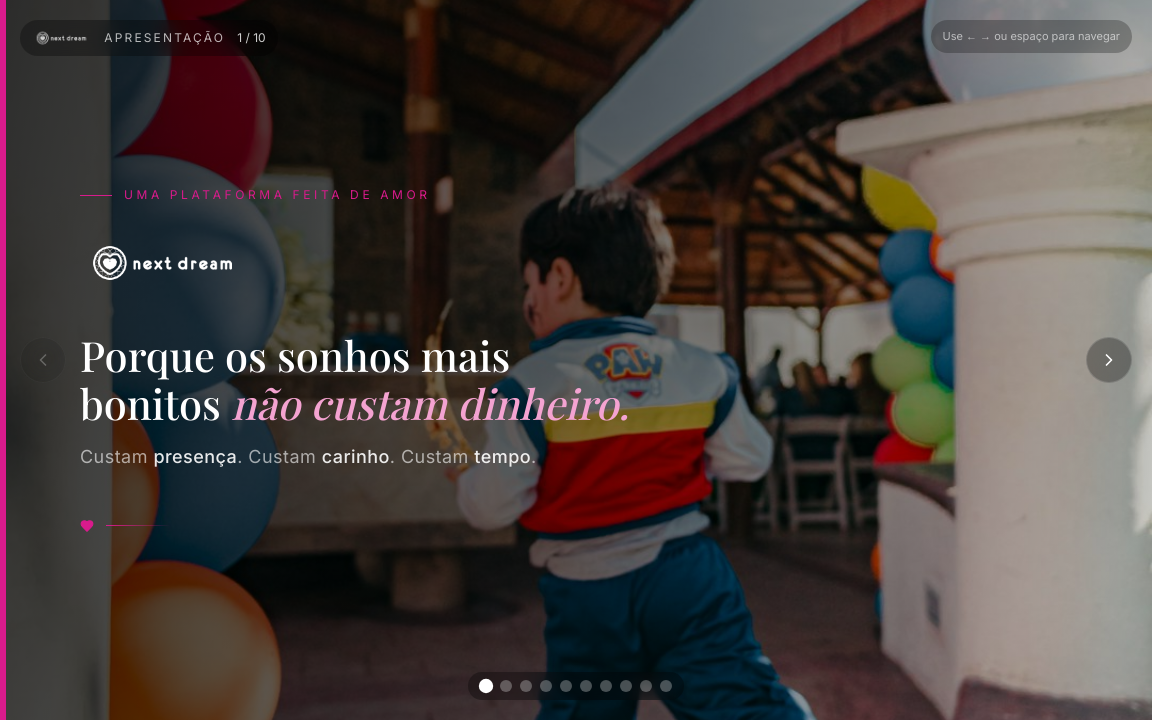
Test: Presentation immersive navigation › advances on horizontal swipe
The width and height of the screenshot is (1152, 720).
Press the mouse on the element with test id "presentation-stage" at point(576, 360), box [0, 0, 1151, 719]
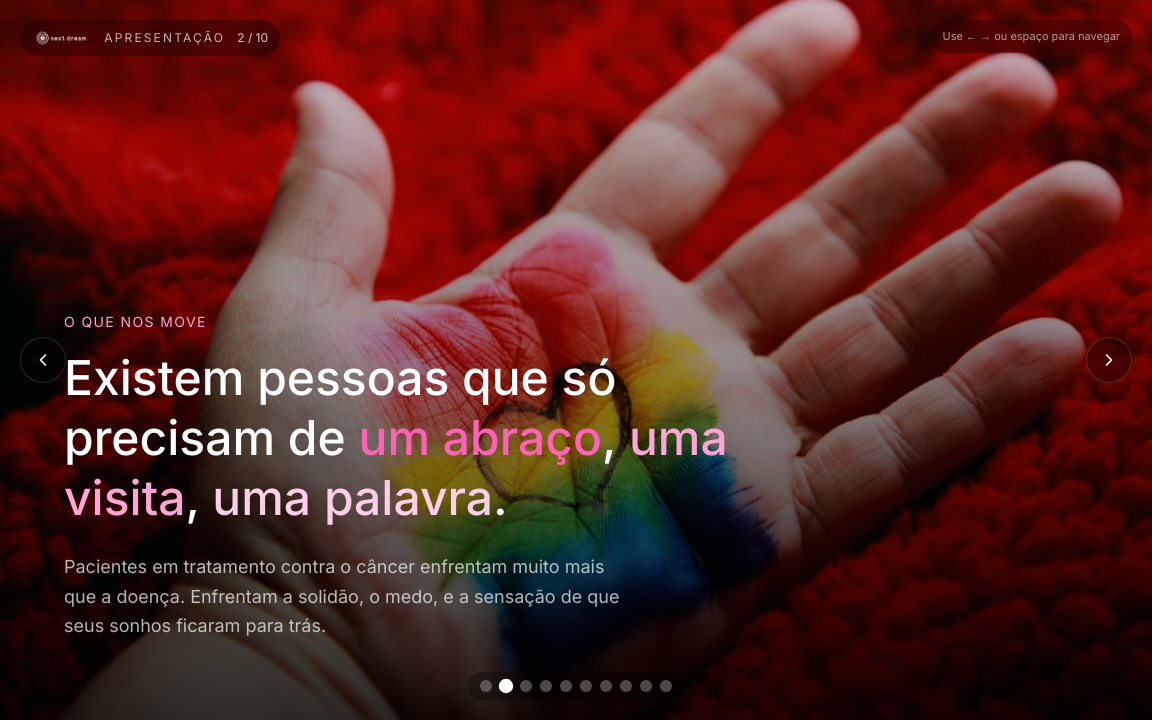
expect the text "2 / 10" is shown: met, box [237, 30, 268, 46]
